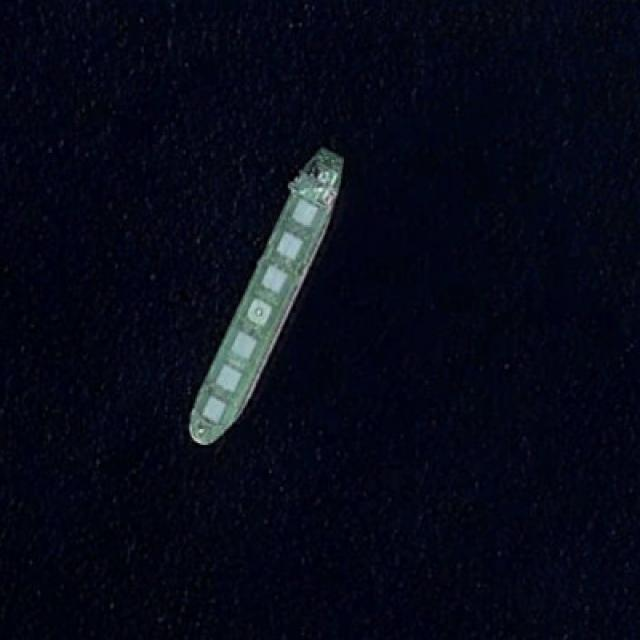boat: (186, 144, 344, 445)
